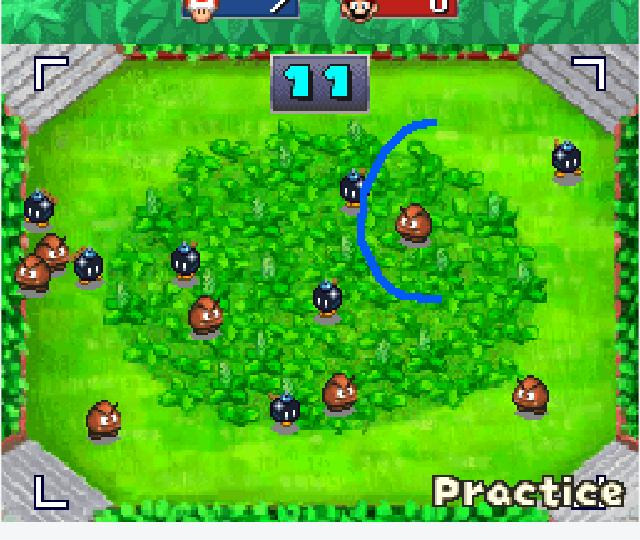bomb: (544, 132, 592, 188), (330, 165, 379, 214), (263, 388, 305, 440), (19, 185, 62, 234), (308, 278, 349, 328), (167, 238, 205, 290), (70, 243, 108, 293)
goomba: (182, 293, 230, 339), (509, 372, 551, 424), (318, 369, 362, 418), (391, 200, 438, 245), (83, 398, 127, 446), (10, 251, 52, 297), (31, 231, 73, 274)
